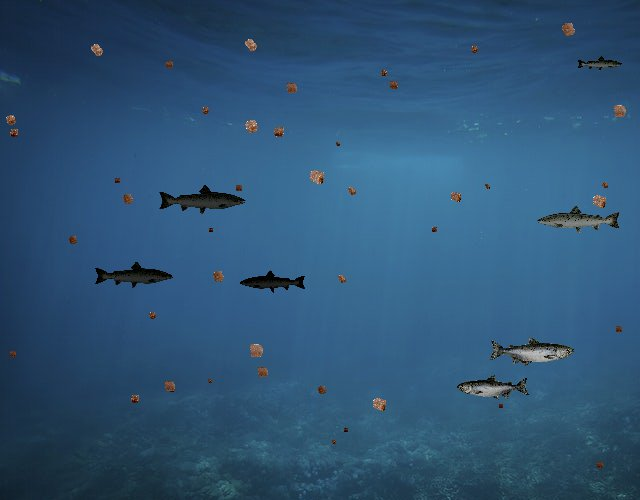Fish: (157, 184, 247, 216), (536, 204, 622, 235), (488, 336, 574, 367), (93, 260, 174, 290), (457, 375, 530, 401), (240, 269, 308, 294), (576, 55, 623, 72)
Pellet: (0, 109, 22, 131), (342, 181, 361, 200), (384, 76, 402, 94), (428, 223, 441, 236), (111, 175, 123, 187), (204, 376, 214, 386)
